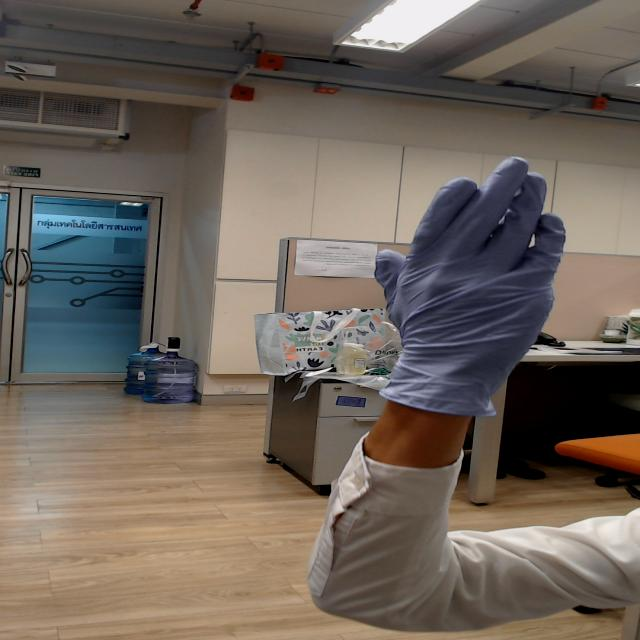glove: (331, 150, 574, 388)
